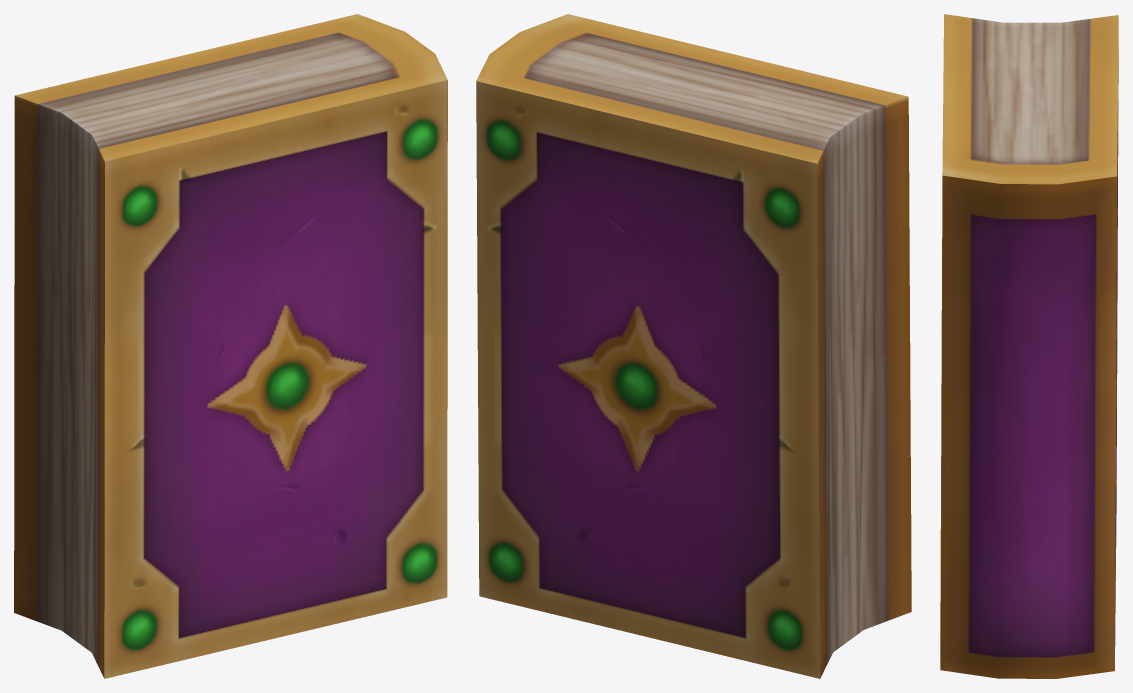
File: book_01.fbx
3 views of the same model, side by side, from view 1: azimuth 30°, elevation 25°; view 2: azimuth 150°, elevation 25°; view 3: azimuth 270°, elevation 25° (orthographic). The views are drawn at different scales.
Visible parts, largest first — view 1: book_01Mesh; view 2: book_01Mesh; view 3: book_01Mesh.
Part boxes in pixels (x1,y1,x2,y2): book_01Mesh: [14, 14, 447, 678]; book_01Mesh: [476, 14, 911, 678]; book_01Mesh: [940, 14, 1118, 678].
Size of the model in its own units: 0.5876 by 0.8041 by 0.2617.
